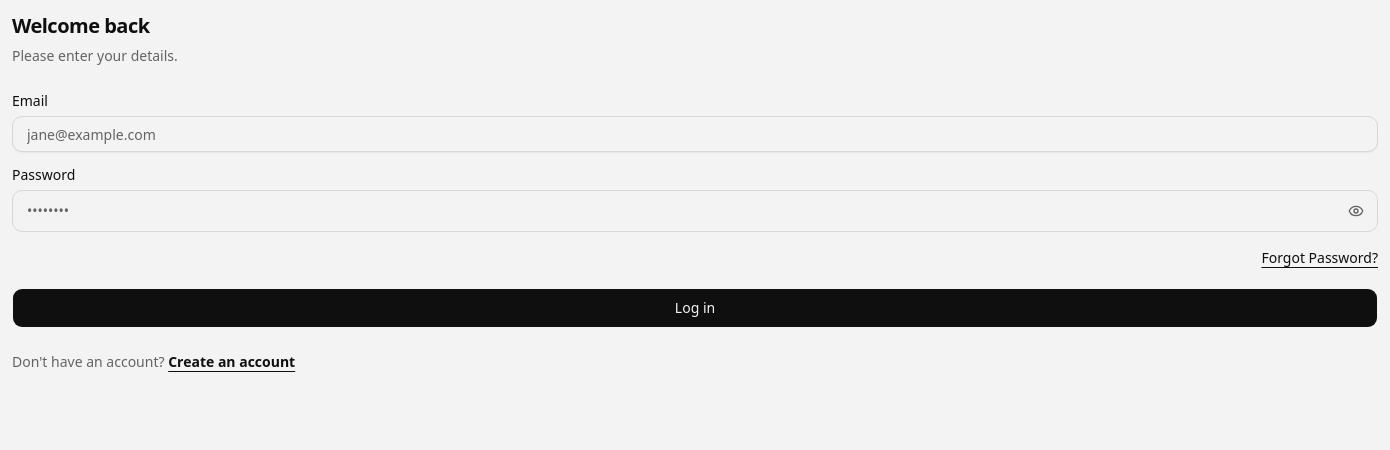
Test: FE-068 · LoginPage (doc 10 §10.22 PG-02; doc 6 PG-02; doc 11 §11.2.18) › Error handling › handles 401: shows server error in root, clears password field, focuses password input, and keeps email
The image size is (1390, 450).
In the field labelled "Email": x=695, y=134 [12,116,1378,152], type "taylor@example.com"
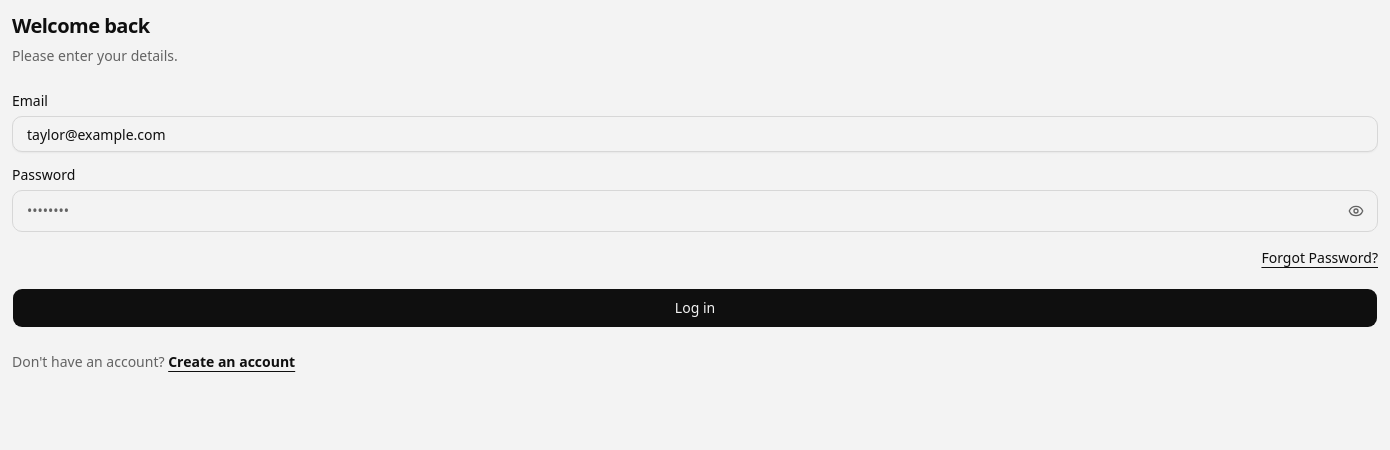
In the password field labelled "Password": x=695, y=211 [12,190,1378,232], type "wrongpassword"
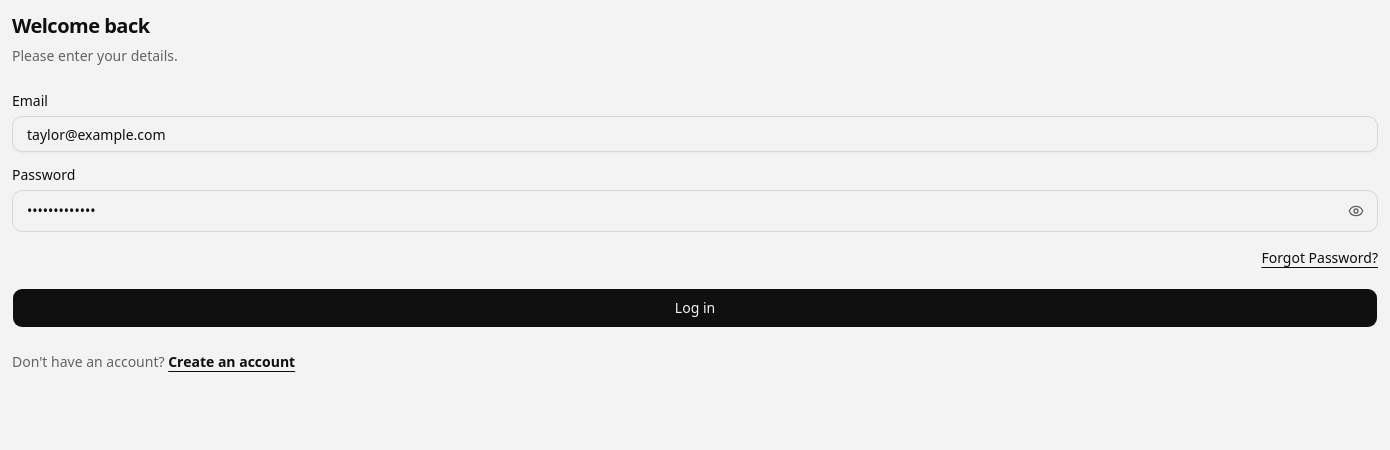
Click the button "Log in": x=695, y=308 [12,288,1378,328]
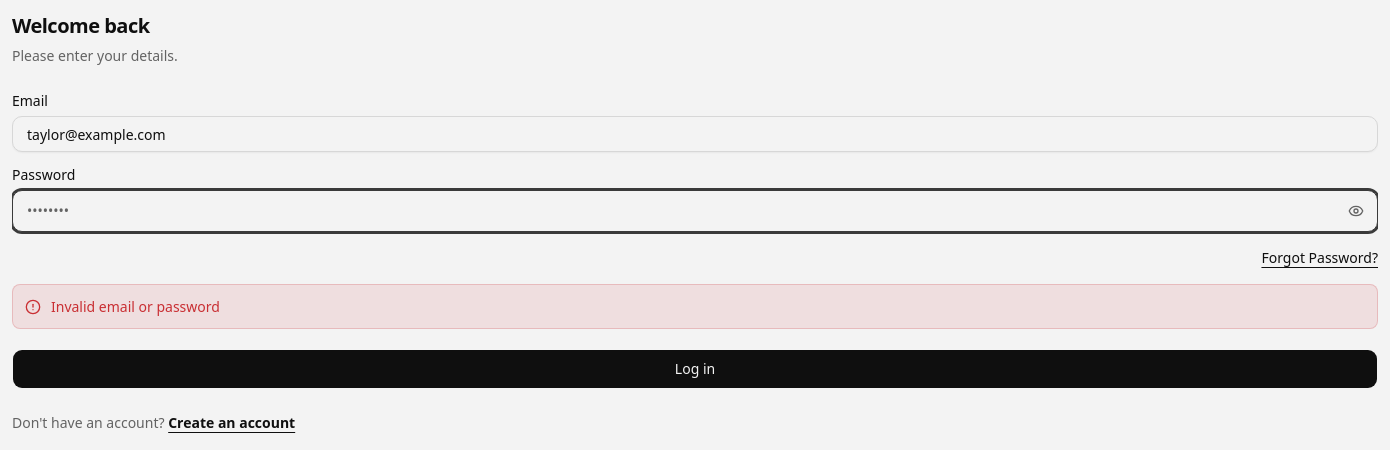
expect the text "Invalid email or password" is shown: met, box [51,297,220,316]
expect the password field labelled "Password" is empty: met, box [12,190,1378,232]
